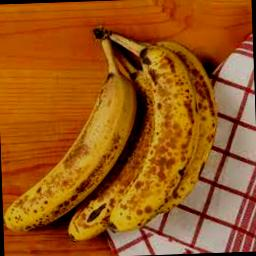Banana Overripe: (0, 24, 225, 246)
